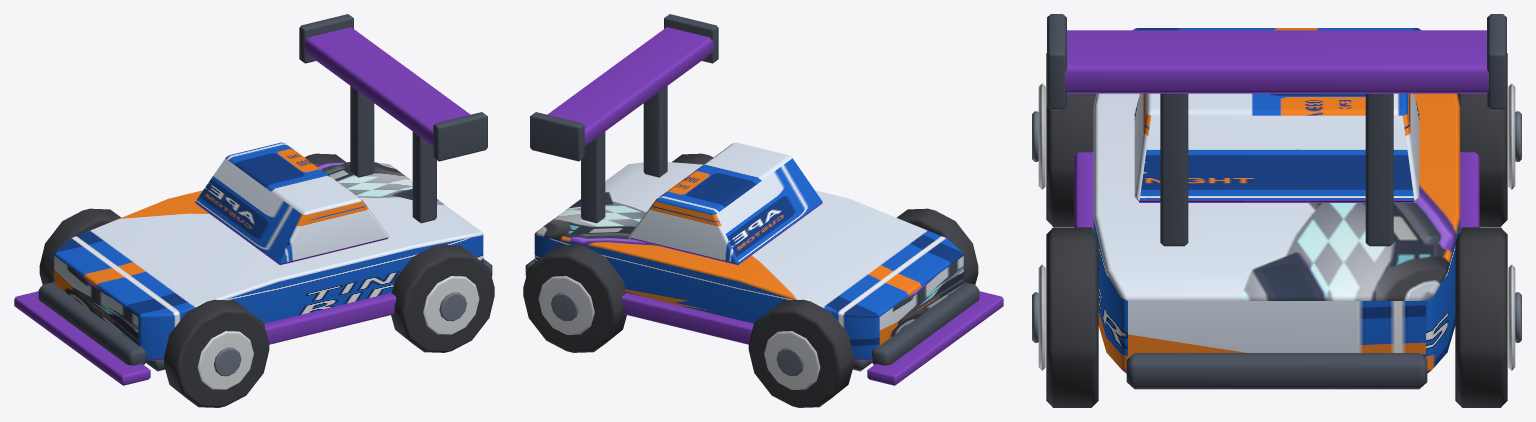
3 views of the same model, side by side, from view 1: azimuth 30°, elevation 25°; view 2: azimuth 150°, elevation 25°; view 3: azimuth 270°, elevation 25° (orthographic). The views are drawn at different scales.
Parts seen in each view (by area): view 1: TC-05_connected_shell, TC-05_cabin, rear airfoil, Tire, Tire.002, custom chin, custom side guard, front bumper, wing endplate, wing support.001, wing support, Rim.002 (+5 smaller); view 2: TC-05_connected_shell, TC-05_cabin, rear airfoil, Tire.001, Tire.003, custom chin, custom side guard.001, front bumper, wing endplate.001, wing support, wing support.001, Rim.003 (+5 smaller); view 3: TC-05_connected_shell, rear airfoil, TC-05_cabin, rear bumper, Tire.002, Tire.003, Tire, Tire.001, wing support, wing support.001, wing endplate, wing endplate.001 (+6 smaller).
Boxes of the visible parts, x1,y1,x2,y2 form: TC-05_connected_shell: [54, 162, 483, 360]; TC-05_cabin: [195, 142, 388, 265]; rear airfoil: [304, 27, 470, 145]; Tire: [164, 299, 269, 407]; Tire.002: [391, 244, 494, 352]; custom chin: [14, 291, 150, 385]; custom side guard: [264, 292, 396, 344]; front bumper: [38, 282, 146, 365]; wing endplate: [433, 112, 487, 161]; wing support.001: [350, 86, 374, 177]; wing support: [412, 131, 436, 223]; Rim.002: [423, 276, 479, 334]; TC-05_connected_shell: [534, 162, 963, 360]; TC-05_cabin: [629, 142, 822, 265]; rear airfoil: [547, 27, 713, 145]; Tire.001: [748, 299, 853, 407]; Tire.003: [523, 244, 626, 352]; custom chin: [867, 291, 1003, 385]; custom side guard.001: [621, 292, 753, 344]; front bumper: [871, 282, 979, 365]; wing endplate.001: [530, 112, 584, 161]; wing support: [643, 86, 667, 177]; wing support.001: [581, 131, 605, 223]; Rim.003: [538, 276, 594, 334]; TC-05_connected_shell: [1093, 28, 1460, 373]; rear airfoil: [1065, 30, 1488, 93]; TC-05_cabin: [1134, 93, 1419, 202]; rear bumper: [1126, 353, 1427, 389]; Tire.002: [1046, 227, 1098, 407]; Tire.003: [1455, 227, 1507, 407]; Tire: [1046, 53, 1095, 226]; Tire.001: [1458, 53, 1507, 226]; wing support: [1160, 93, 1188, 246]; wing support.001: [1365, 93, 1393, 246]; wing endplate: [1047, 14, 1066, 109]; wing endplate.001: [1487, 14, 1506, 109].
Size of the model in its own units: 359 by 206 by 243.
